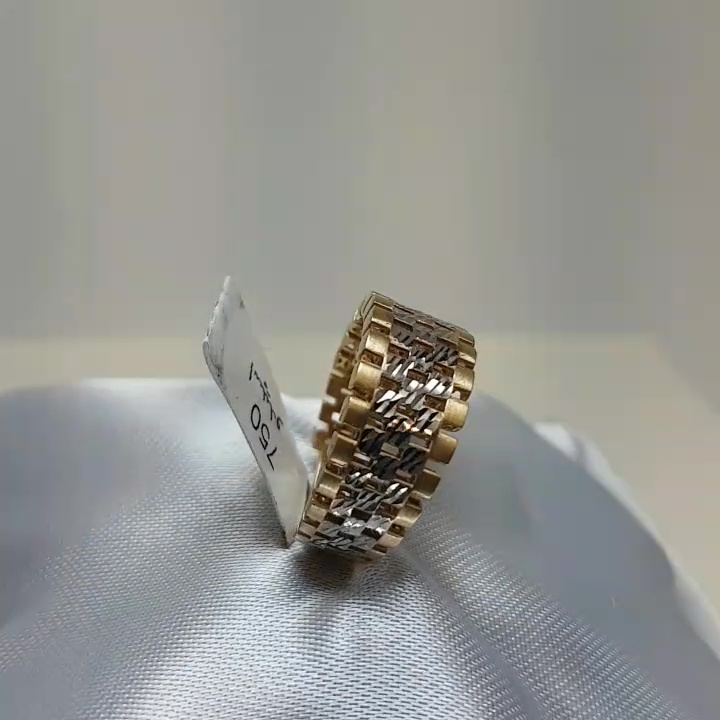Ring 1: (254, 277, 503, 580)
